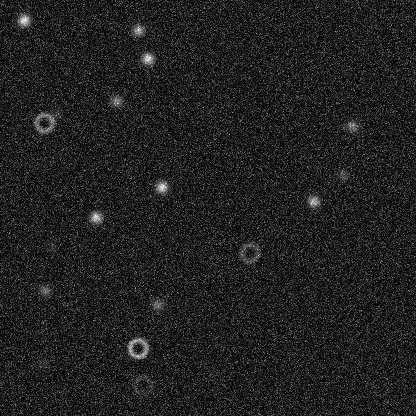Ring: (32, 110, 56, 134), (125, 335, 149, 359), (237, 240, 261, 264), (130, 373, 154, 397)
Spot: (108, 92, 124, 108), (149, 296, 165, 312), (334, 167, 350, 183), (47, 105, 63, 121), (130, 22, 146, 38), (15, 12, 31, 28), (37, 282, 53, 298), (43, 238, 59, 254), (139, 50, 155, 66), (153, 179, 169, 195), (344, 117, 360, 133), (305, 193, 321, 209), (35, 355, 51, 371), (87, 209, 103, 225)
